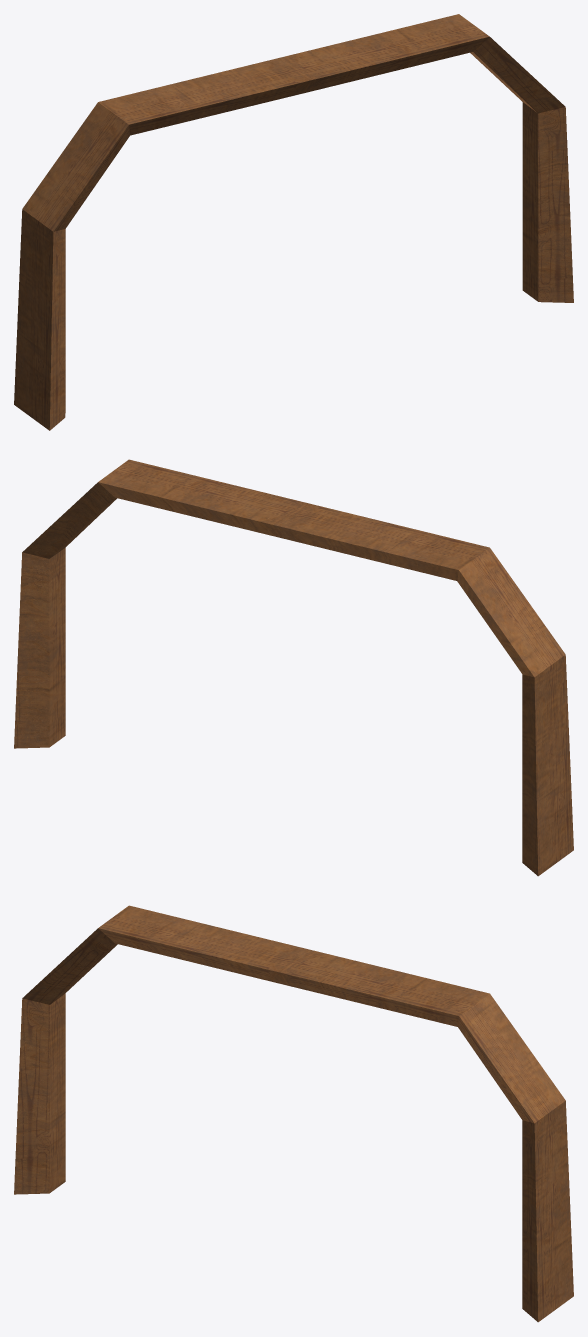
Rendered from WoodArc_Art.fbx.
The picture shows the model from 3 angles, top to bottom: view 1: azimuth 30°, elevation 25°; view 2: azimuth 150°, elevation 25°; view 3: azimuth 330°, elevation 25°; orthographic projection.
Parts seen in each view (by area): view 1: WoodArc_Art; view 2: WoodArc_Art; view 3: WoodArc_Art.
Boxes of the visible parts, x1=… form: WoodArc_Art: x1=14, y1=14, x2=573, y2=430; WoodArc_Art: x1=14, y1=459, x2=573, y2=876; WoodArc_Art: x1=14, y1=905, x2=573, y2=1322.
Bounding box in the file's own units: 11.77 × 6.11 × 1.39.
